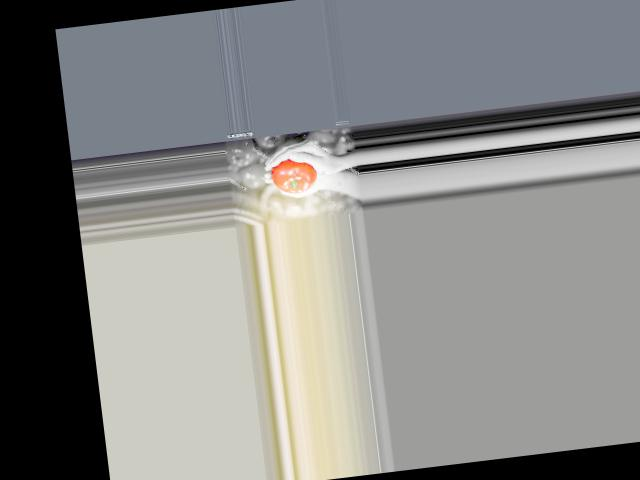tomato: (270, 155, 319, 195)
